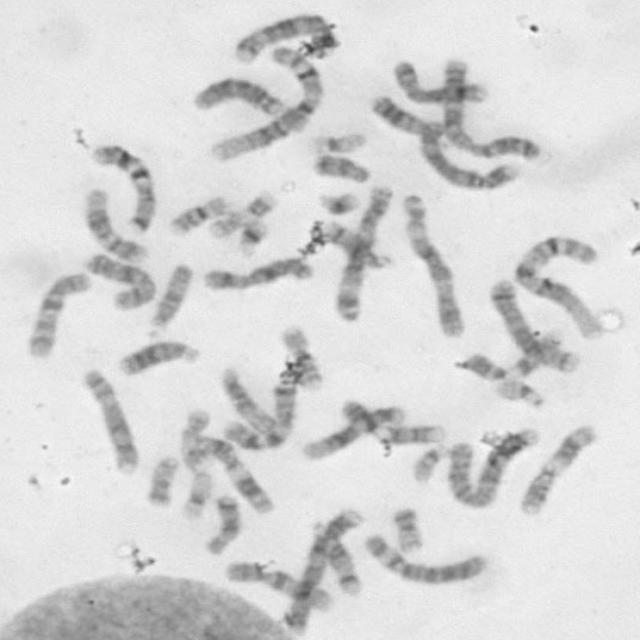A1: (211, 45, 324, 164), (509, 234, 608, 341)
A2: (441, 55, 542, 163), (446, 422, 543, 510)
A3: (398, 193, 468, 339), (332, 184, 396, 325)
B4: (280, 507, 361, 636), (418, 121, 520, 192)
B5: (486, 278, 582, 374), (230, 12, 340, 65)
C10: (222, 560, 336, 614), (24, 272, 90, 359)
C11: (516, 426, 597, 520), (195, 434, 282, 518)
C12: (302, 404, 408, 464), (81, 186, 148, 264)
C6: (193, 75, 310, 135), (360, 533, 489, 586)
C7: (91, 145, 157, 236), (220, 379, 297, 452)
C8: (81, 365, 141, 476), (392, 60, 492, 106)
C9: (462, 331, 562, 384), (340, 399, 449, 445)
D13: (367, 94, 452, 140), (113, 338, 204, 378)
D14: (307, 520, 363, 596), (326, 218, 394, 271)
D15: (217, 364, 279, 437), (147, 262, 196, 338)
E16: (280, 323, 323, 392), (166, 195, 230, 237)
E17: (206, 190, 278, 239), (178, 408, 214, 475)
E18: (203, 495, 240, 558), (310, 152, 371, 184)
F19: (181, 470, 215, 521), (311, 132, 367, 154)
F20: (145, 452, 180, 510), (391, 506, 427, 554)
G21: (235, 220, 272, 258), (316, 189, 362, 217)
G22: (412, 441, 450, 487), (494, 378, 544, 410)
X: (83, 251, 160, 313), (200, 256, 317, 294)
